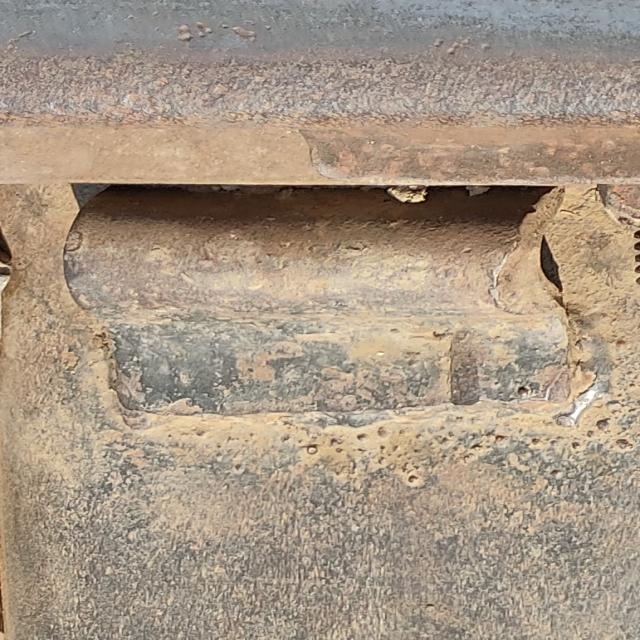track_bolt_missing: (52, 187, 566, 336)
